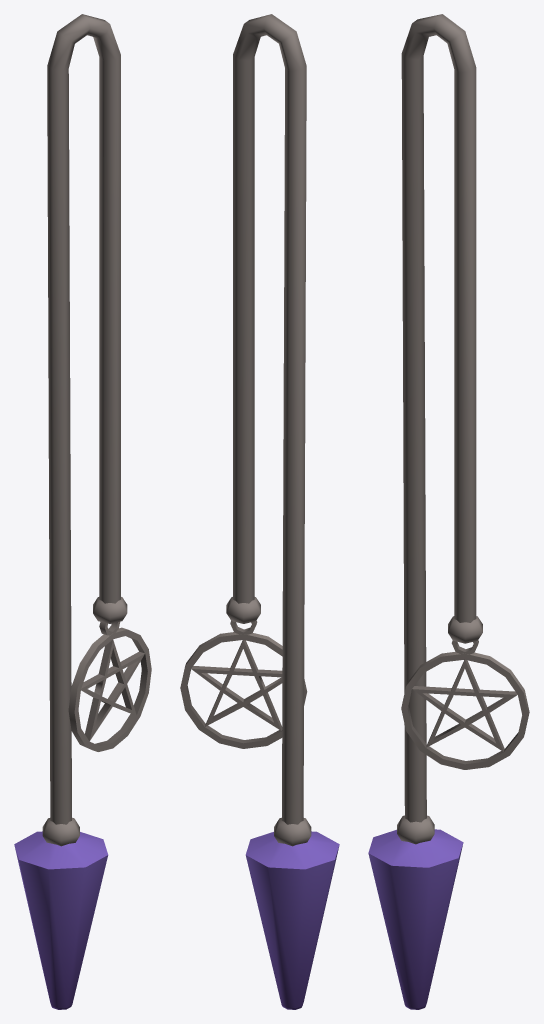
File: Pendulum.fbx
3 views of the same model, side by side, from view 1: azimuth 30°, elevation 25°; view 2: azimuth 150°, elevation 25°; view 3: azimuth 330°, elevation 25° (orthographic).
Visible parts, largest first — view 1: Pendulum; view 2: Pendulum; view 3: Pendulum.
Boxes of the visible parts, left/top/right/bottom form: Pendulum: left=14, top=14, right=151, bottom=1009; Pendulum: left=180, top=14, right=339, bottom=1009; Pendulum: left=368, top=14, right=529, bottom=1009.
Bounding box in the file's own units: 6.07 × 39.88 × 3.58.
